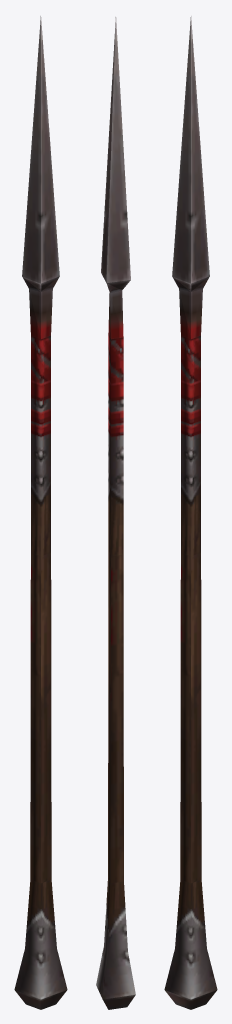
Rendered from polearm20_b084718f.glb.
3 renders of one model, left to right at view 1: azimuth 90°, elevation 25°; view 2: azimuth 150°, elevation 25°; view 3: azimuth 270°, elevation 25°, orthographic.
Size of the model in its own units: 0.177 by 4.2 by 0.2044.
1 material, 1 textured.
